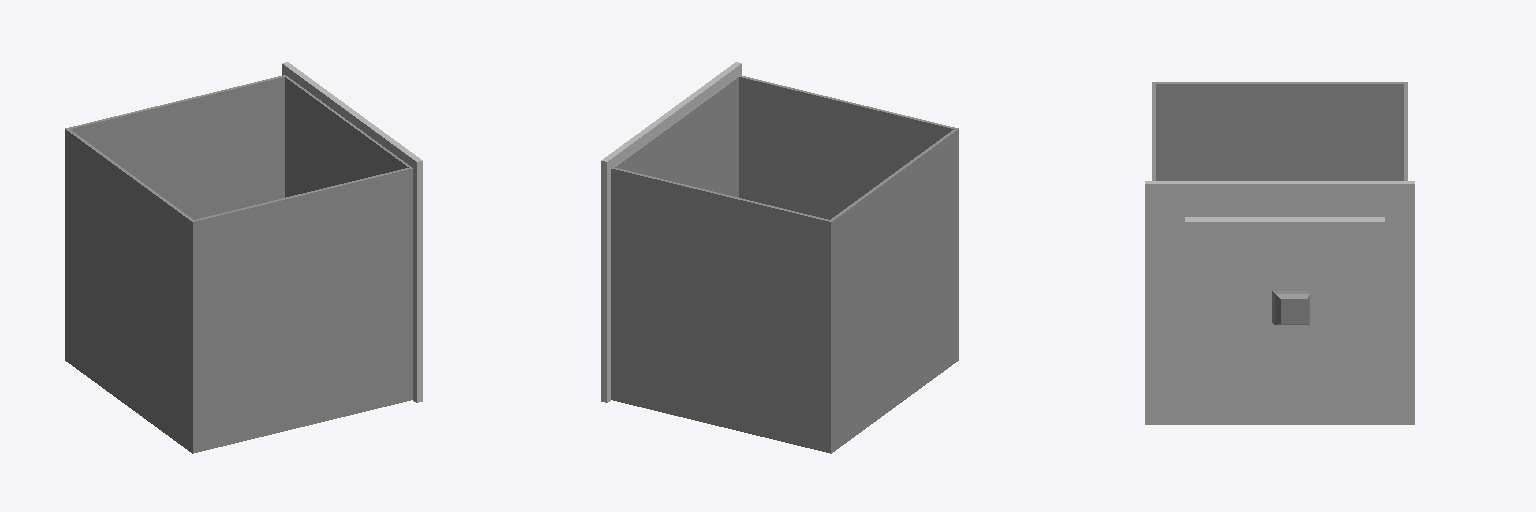
File: i_dra.obj
The picture shows the model from 3 angles: view 1: azimuth 30°, elevation 25°; view 2: azimuth 150°, elevation 25°; view 3: azimuth 270°, elevation 25°; orthographic projection.
Parts seen in each view (by area): view 1: Plane_Plane.001; view 2: Plane_Plane.001; view 3: Plane_Plane.001.
Part boxes in pixels (x1,y1,x2,y2): Plane_Plane.001: (65, 62, 422, 453); Plane_Plane.001: (601, 62, 958, 453); Plane_Plane.001: (1145, 82, 1414, 424).
Bounding box in the file's own units: 6.15 × 5.57 × 5.64.